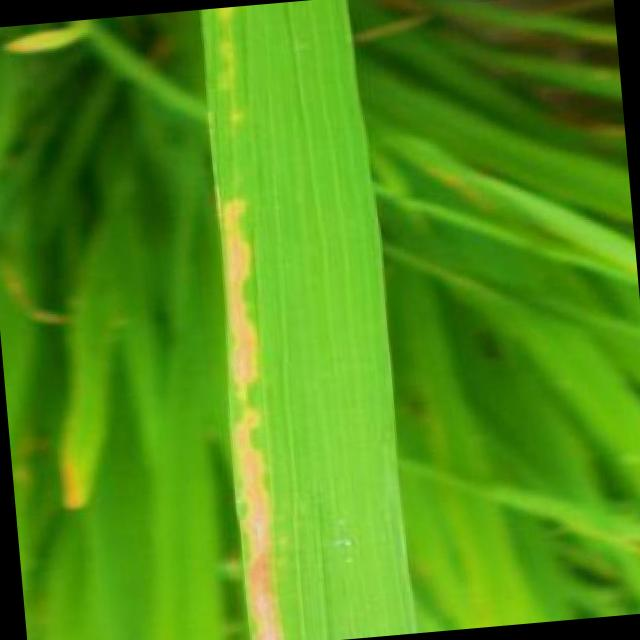Rice_Bacterial_Blight: (183, 0, 422, 640)
